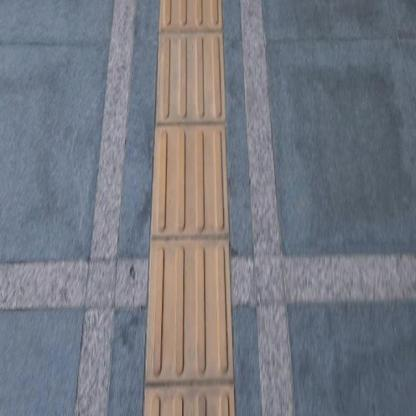podotacti: (142, 0, 238, 415)
